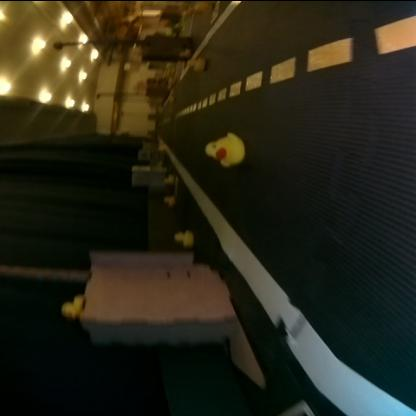Duckie: (204, 132, 244, 163), (58, 295, 85, 312), (184, 54, 204, 70), (172, 229, 192, 242), (162, 193, 176, 202)
